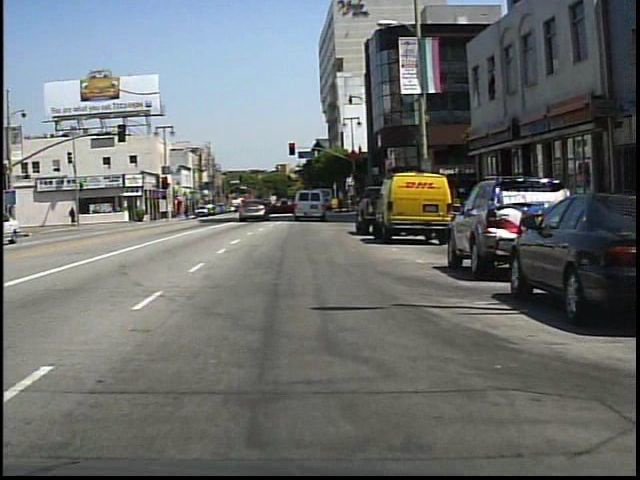person: (255, 193, 273, 224), (69, 205, 77, 226)
